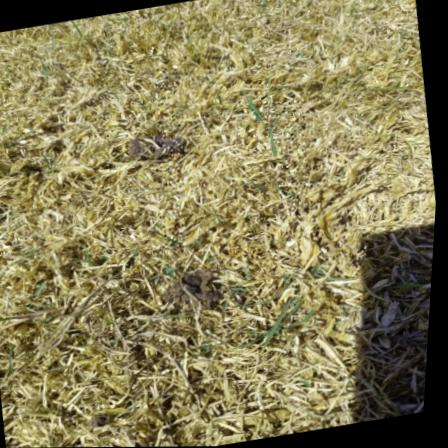dog-poop: (126, 112, 191, 166), (173, 260, 238, 314)
